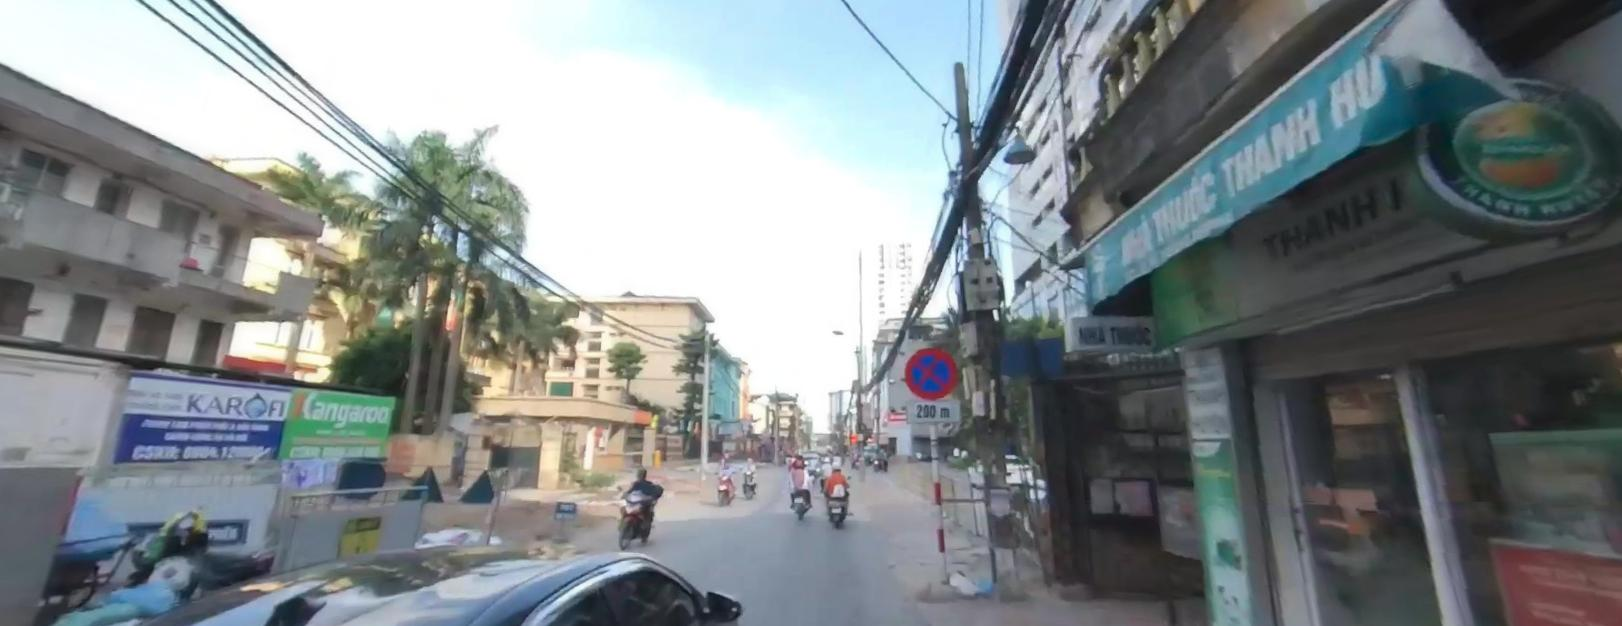Cam dung va do: (902, 347, 958, 399)
